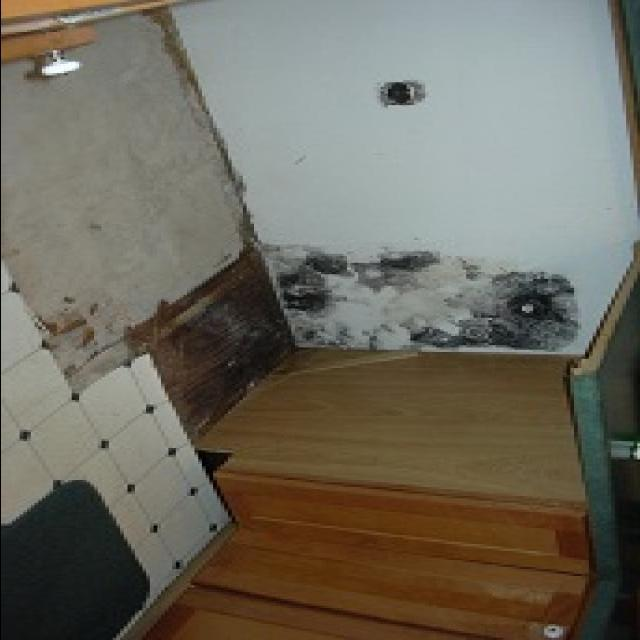Crack: (141, 3, 258, 247)
